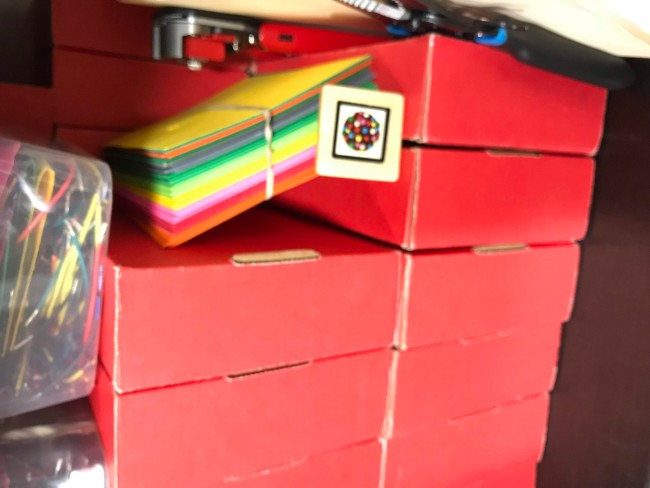cookie: (325, 97, 397, 168)
